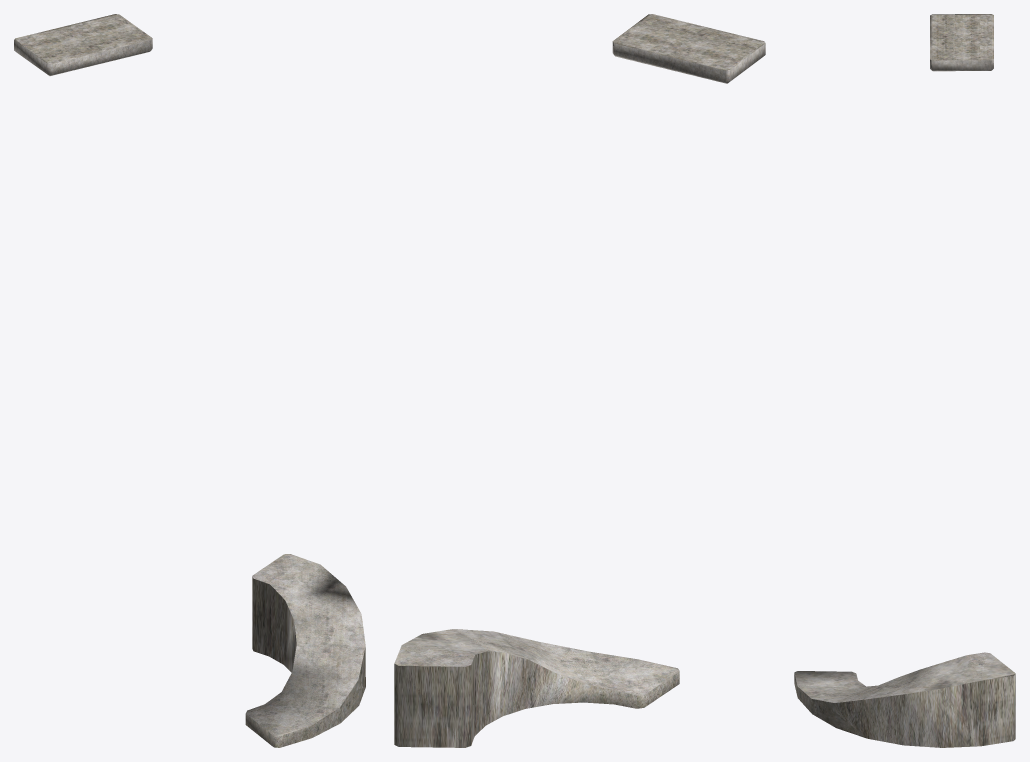
Rendered from RockTowerStepA.obj.
The picture shows the model from 3 angles, left to right: view 1: azimuth 30°, elevation 25°; view 2: azimuth 150°, elevation 25°; view 3: azimuth 270°, elevation 25°; orthographic projection. The views are drawn at different scales.
Visible parts, largest first — view 1: Plane.002_Plane.029; view 2: Plane.002_Plane.029; view 3: Plane.002_Plane.029.
Part boxes in pixels (x1=…): Plane.002_Plane.029: x1=14, y1=14, x2=365, y2=747; Plane.002_Plane.029: x1=394, y1=14, x2=765, y2=747; Plane.002_Plane.029: x1=794, y1=14, x2=1015, y2=747.
Bounding box in the file's own units: 1839 × 3850 × 1288.
Materials: 4 (4 with a texture image).
